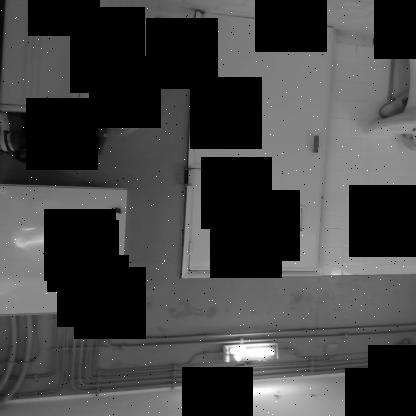Porte: (178, 8, 340, 281)
